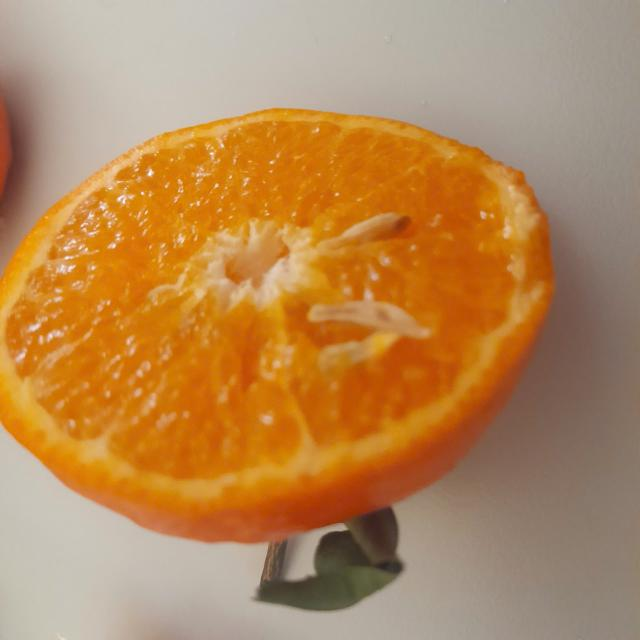Cam: (2, 88, 568, 619)
